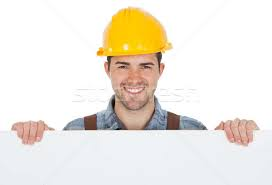Person_wearing_helmet: (97, 4, 173, 79)
